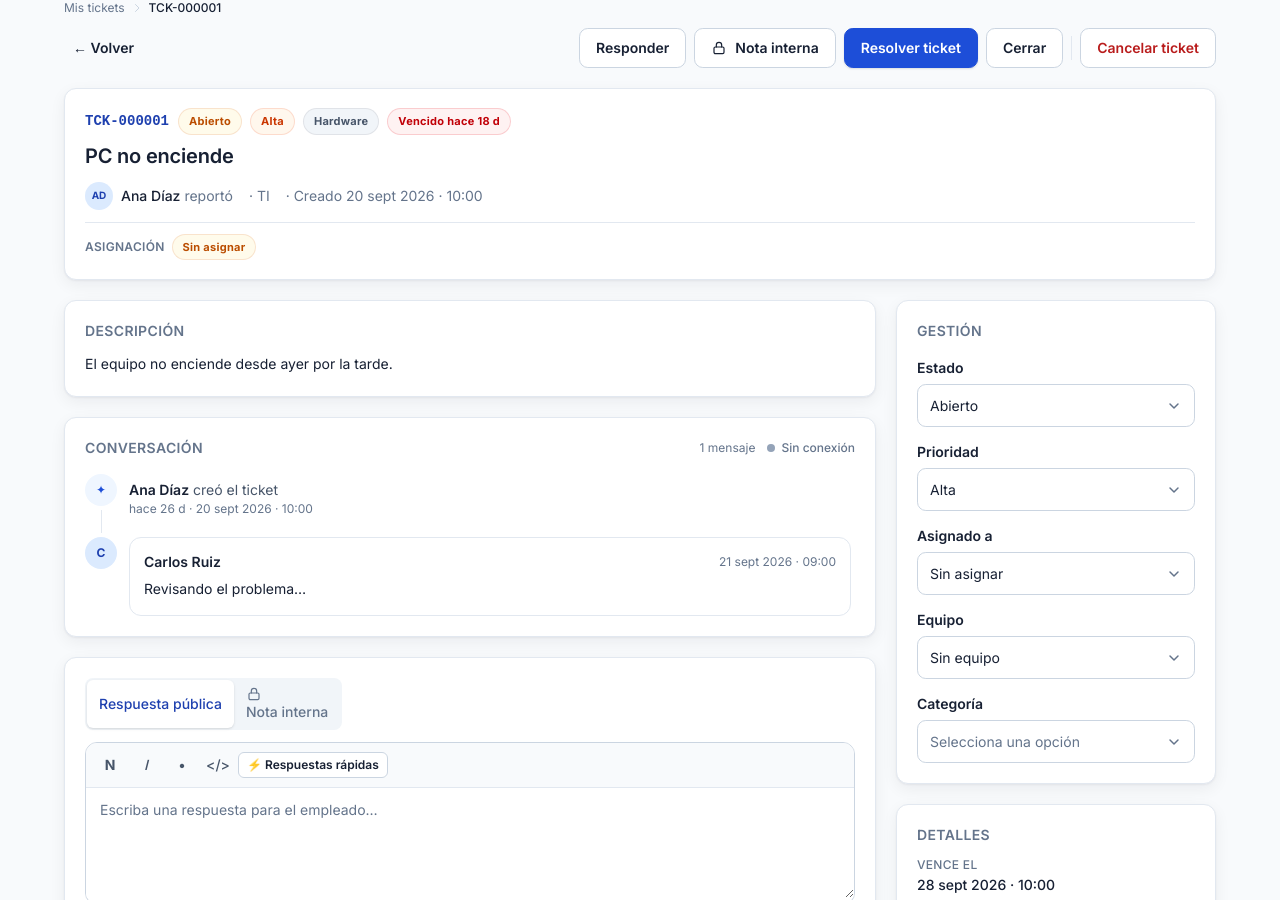
Test: TicketDetail › elegir "Cancelado" abre el modal de cancelación sin enviar PATCH
This screenshot has width=1280, height=900.
Expected: the heading "PC no enciende" is shown, [85,144,234,168]
Click the dropdown labelled "Abierto".
click(954, 406)  # box [917,384,1195,427]
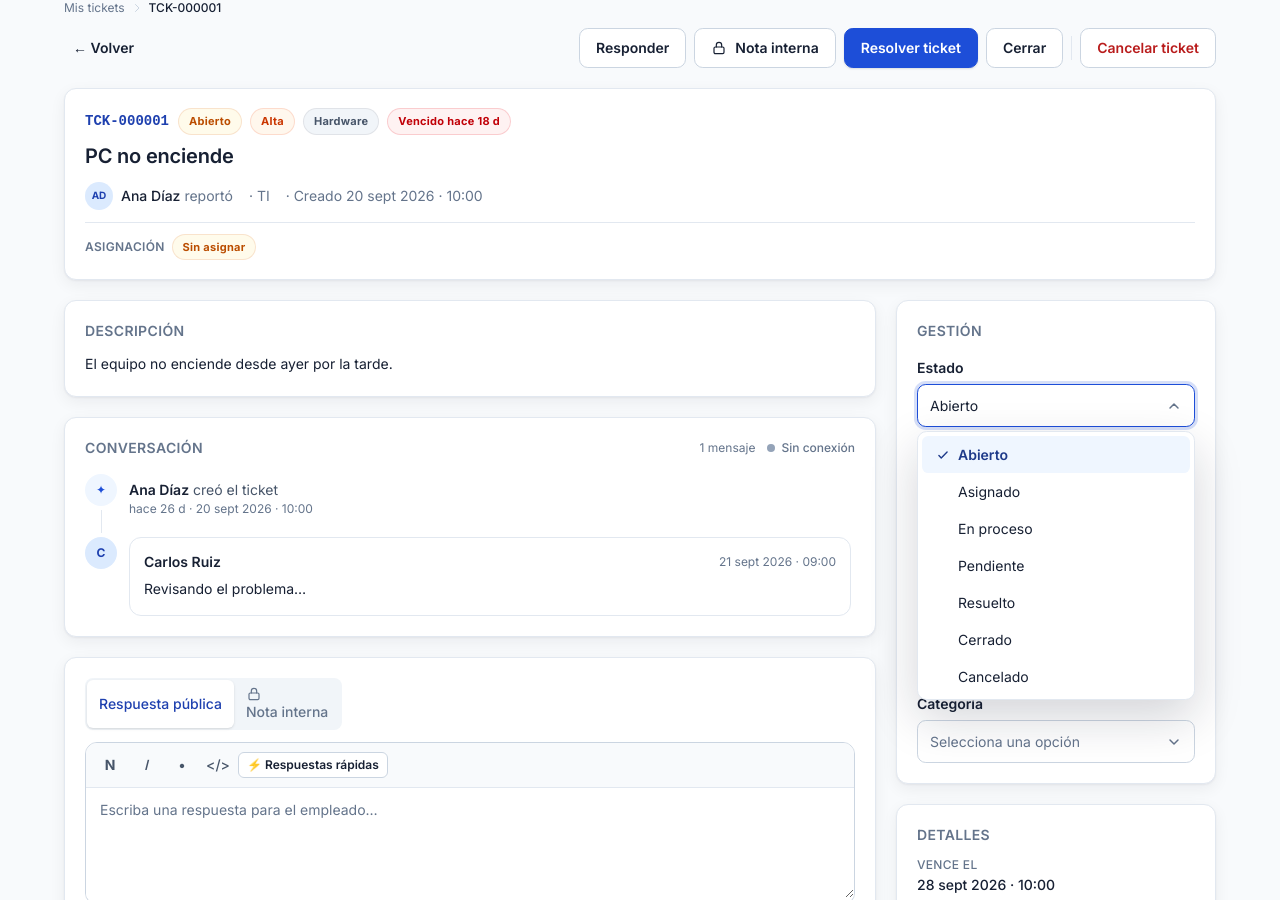
Click the option "Cancelado".
click(993, 676)  # box [958,668,1029,685]
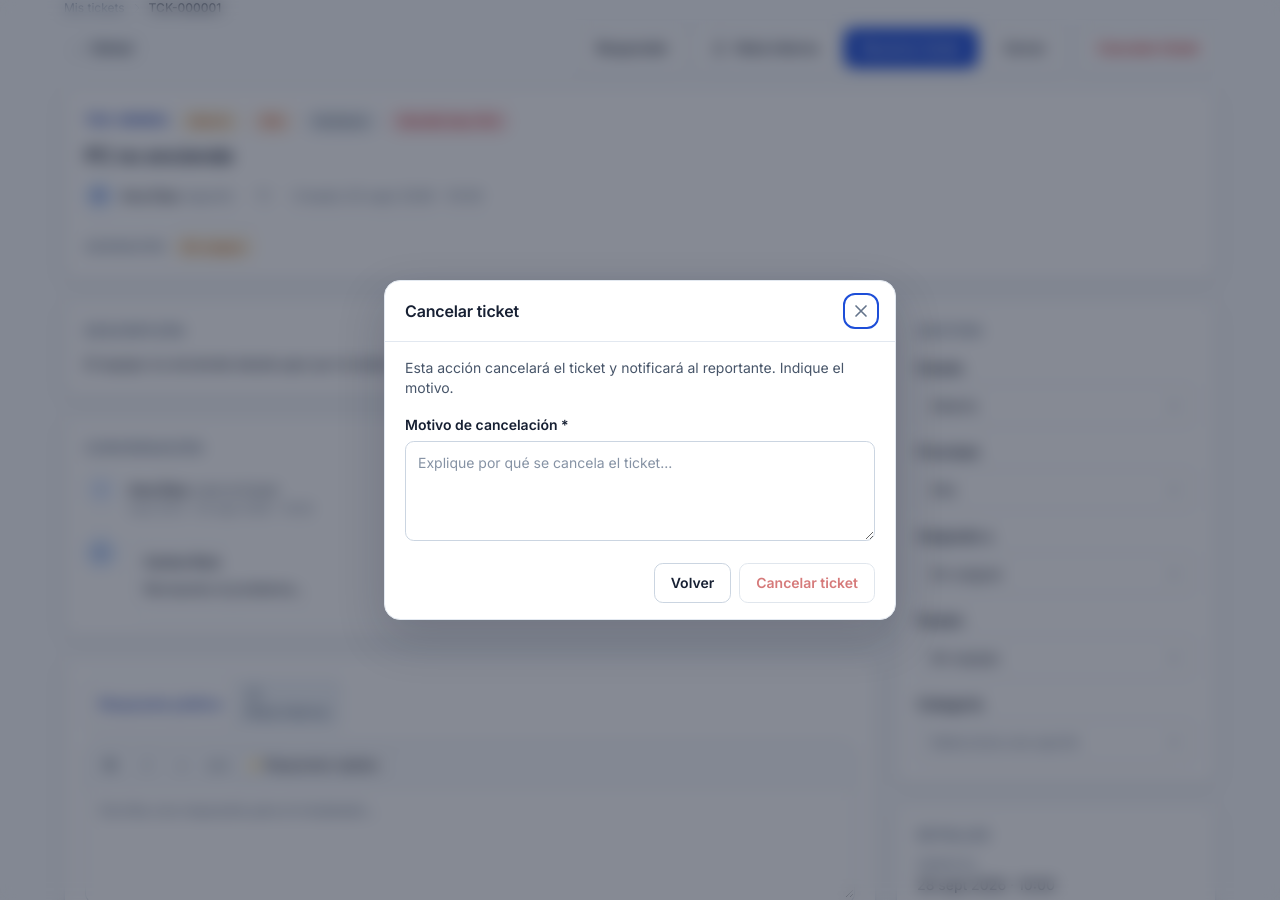
Now the dialog "Cancelar ticket" is shown, box [384,280,896,620]
